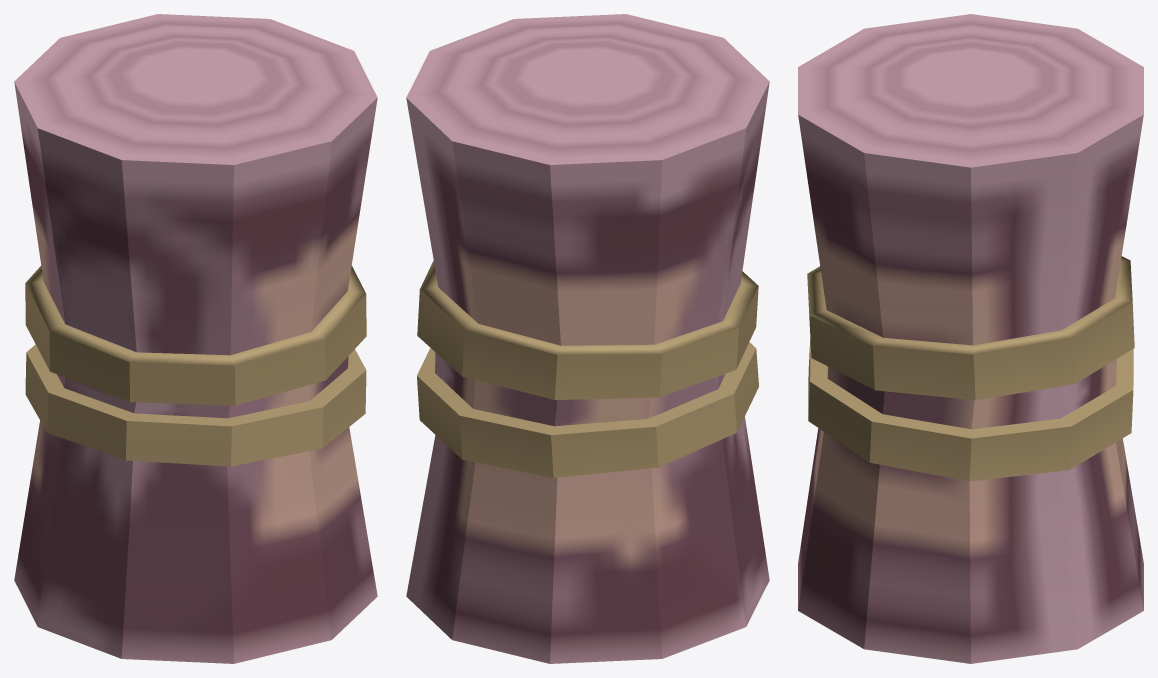
File: SM_Prop_Money_Roll_01.glb
The picture shows the model from 3 angles, left to right: view 1: azimuth 30°, elevation 25°; view 2: azimuth 150°, elevation 25°; view 3: azimuth 270°, elevation 25°; orthographic projection.
Parts seen in each view (by area): view 1: SM_Prop_Money_Roll_01; view 2: SM_Prop_Money_Roll_01; view 3: SM_Prop_Money_Roll_01.
Boxes of the visible parts, x1,y1,x2,y2 form: SM_Prop_Money_Roll_01: (14,14,377,663); SM_Prop_Money_Roll_01: (406,14,769,663); SM_Prop_Money_Roll_01: (798,14,1143,663).
Bounding box in the file's own units: 0.0817 × 0.1272 × 0.0777.
Materials: 1 (1 with a texture image).
